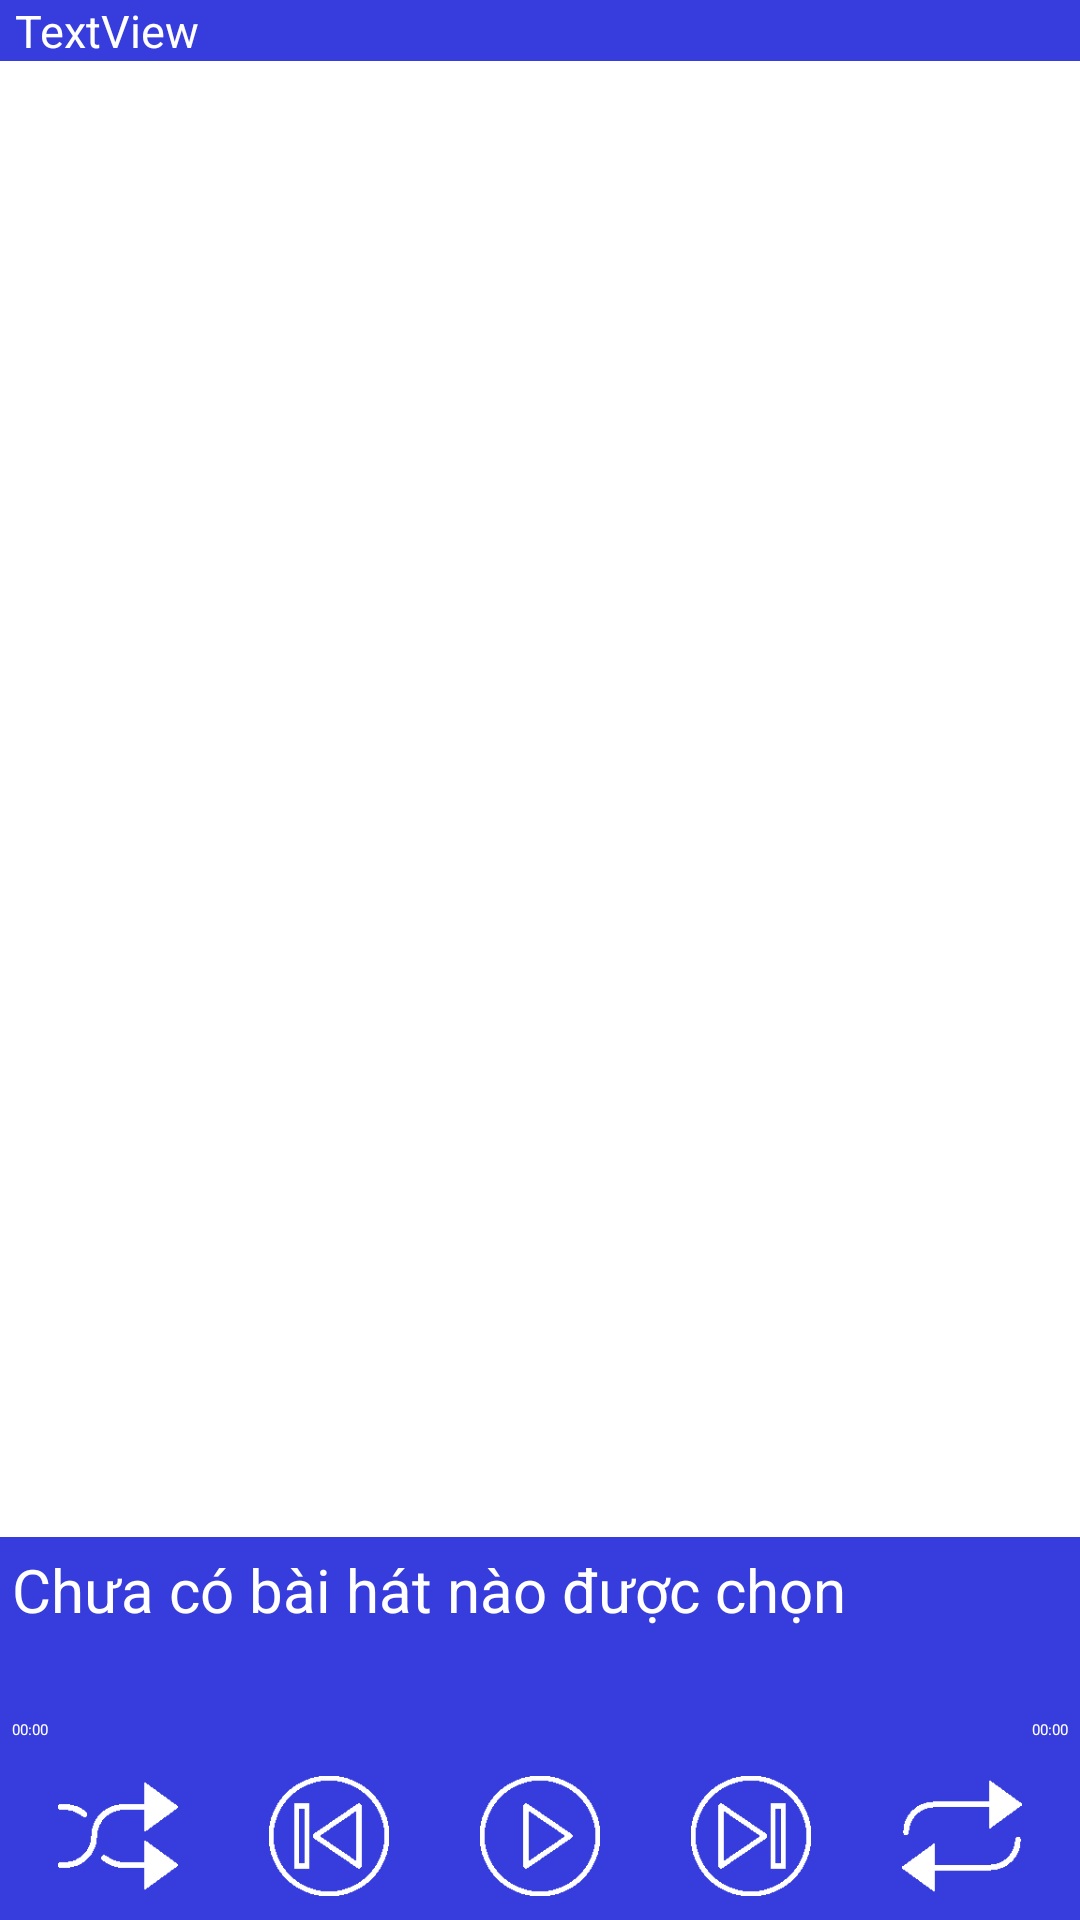

Locate icon controls on the screen. Image size 1080 x 1920, boxes as (x1, y1, x2, y2).
next: (691, 1776, 811, 1896)
play: (480, 1776, 600, 1896)
previous: (269, 1776, 389, 1896)
repeat: (902, 1780, 1022, 1892)
shuffle: (58, 1782, 178, 1890)
